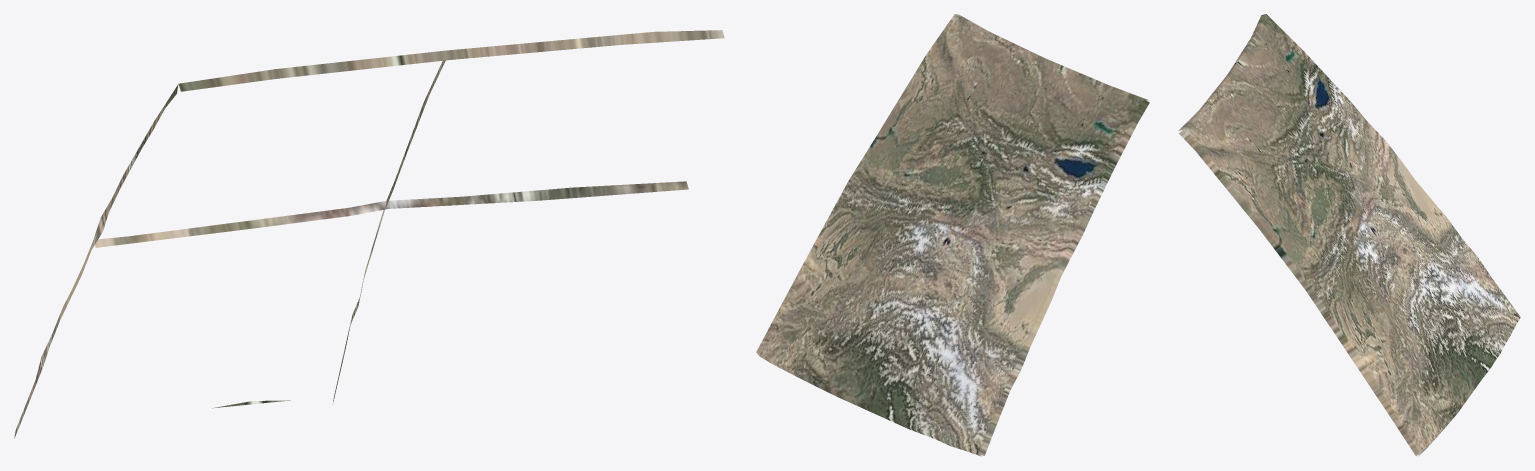
The picture shows the model from 3 angles, left to right: view 1: azimuth 30°, elevation 25°; view 2: azimuth 150°, elevation 25°; view 3: azimuth 270°, elevation 25°; orthographic projection. The views are drawn at different scales.
Bounding box in the file's own units: 1165711 × 983799 × 1061635.
1 material, 1 textured.
